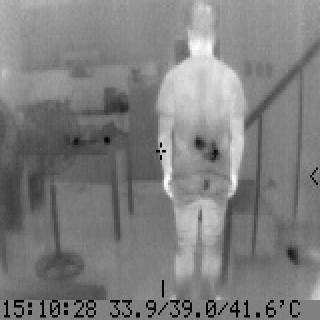Gun: (194, 133, 222, 195)
